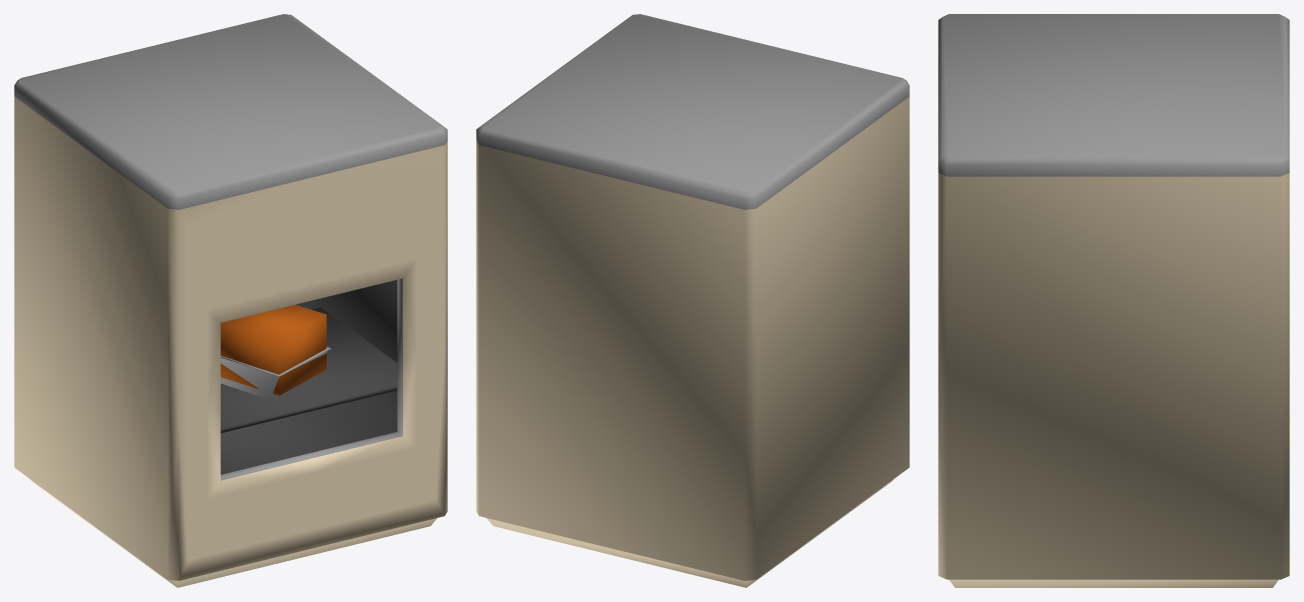
The model's file is K_Oven.glb.
3 views of the same model, side by side, from view 1: azimuth 30°, elevation 25°; view 2: azimuth 150°, elevation 25°; view 3: azimuth 270°, elevation 25° (orthographic). The views are drawn at different scales.
Visible parts, largest first — view 1: Kitchen_Oven; view 2: Kitchen_Oven; view 3: Kitchen_Oven.
Part boxes in pixels (bbox=[...]): Kitchen_Oven: bbox=[14, 14, 447, 587]; Kitchen_Oven: bbox=[476, 14, 909, 587]; Kitchen_Oven: bbox=[938, 14, 1289, 587].
Bounding box in the file's own units: 1.08 × 1.47 × 1.08.
